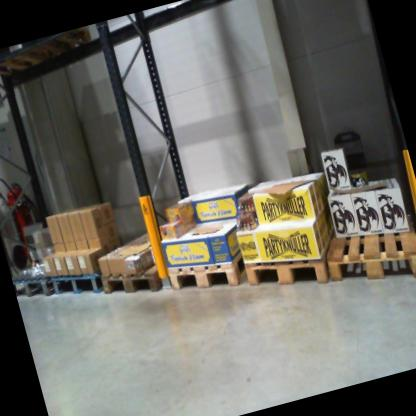pallet: (234, 195, 372, 302), (313, 194, 416, 296), (92, 227, 197, 312), (162, 230, 269, 309), (0, 26, 99, 87), (47, 259, 115, 320)
